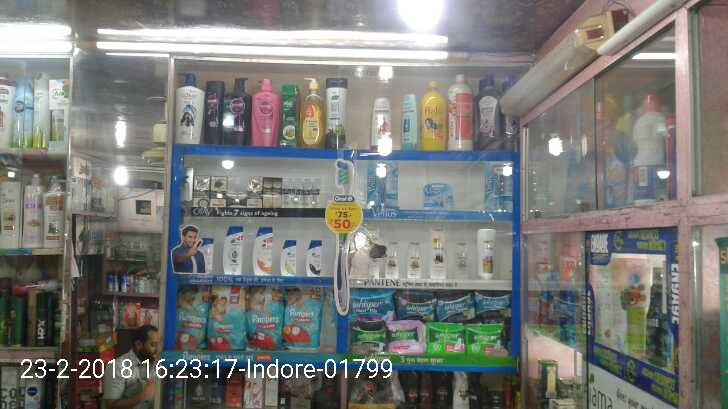ambipureVesus: (15, 75, 33, 147), (33, 73, 48, 147)
venus: (367, 159, 397, 207), (484, 161, 512, 207), (423, 182, 453, 208)
